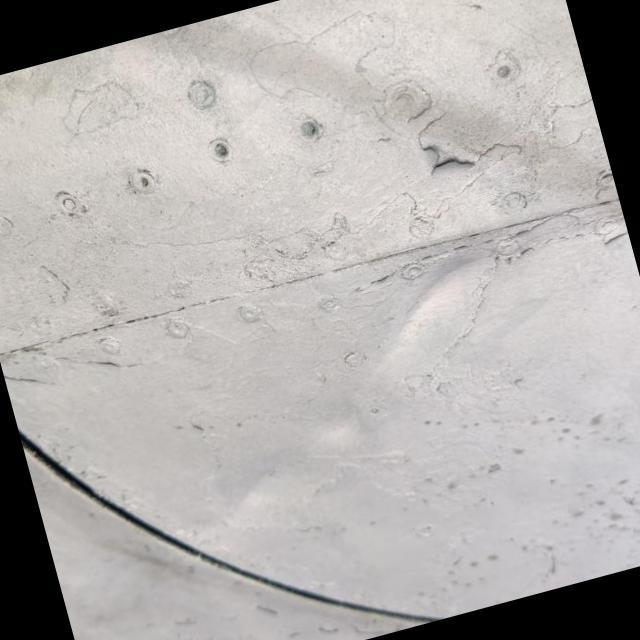Dent: (324, 222, 542, 420), (191, 414, 329, 556)
